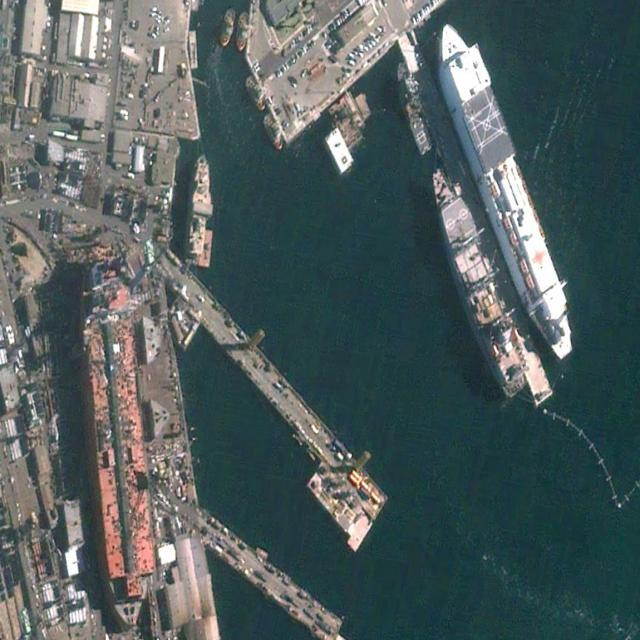Auxiliary Ships: (422, 8, 588, 372)
Cargo: (70, 255, 162, 633)
Hovercraft: (216, 6, 238, 50), (234, 12, 250, 54)
Other Ship: (417, 158, 533, 404)
Other Warship: (390, 59, 437, 159)
